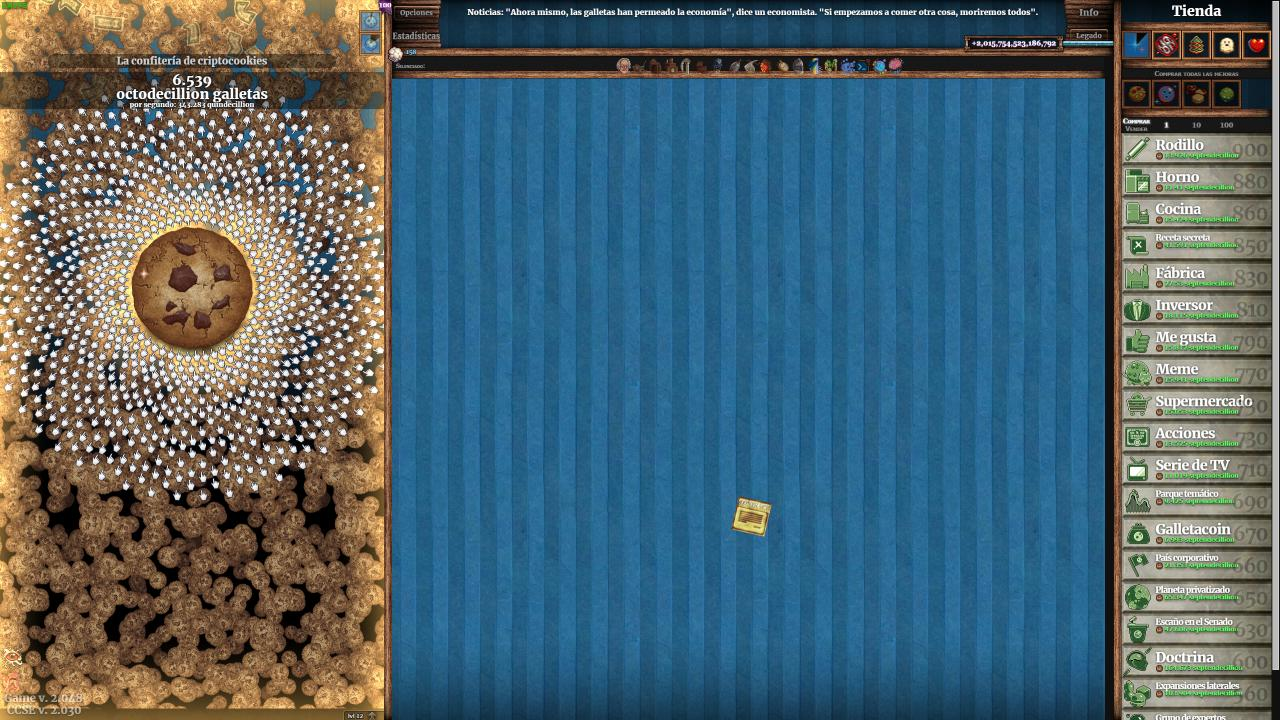GoldenCartridge: (730, 495, 774, 538)
